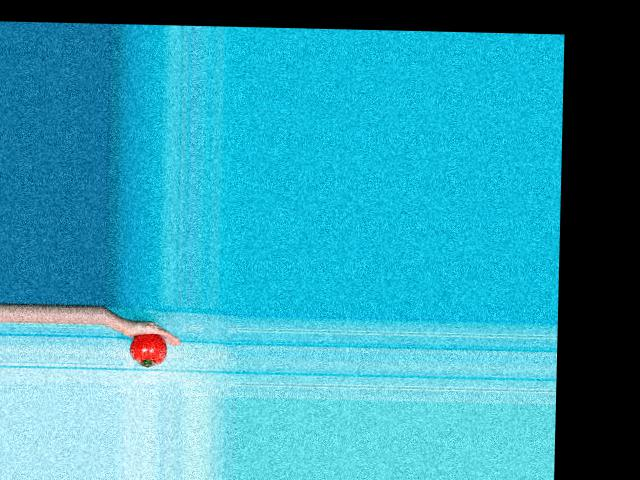tomato: (130, 333, 168, 366)
